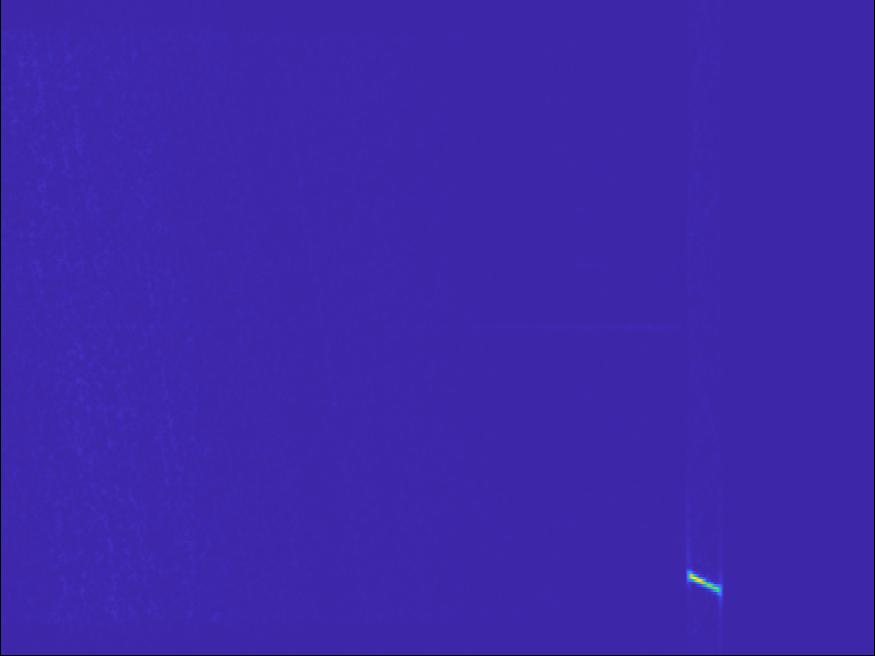Interference: (137, 554, 261, 602), (35, 78, 163, 122)
